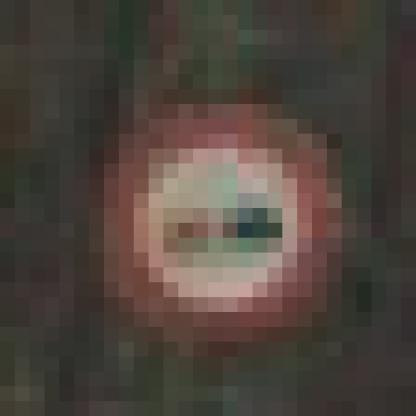No Overtaking: (75, 75, 328, 328)
